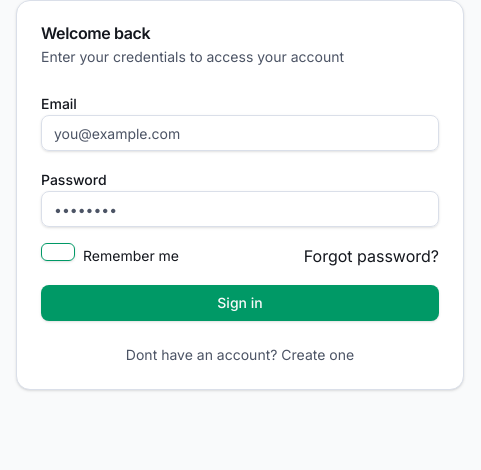
LoginForm › error handling › displays error message on failed login
The image size is (481, 470).
Type "test@example.com" into the field with placeholder "you@example.com" at point(240, 133), box [41, 115, 439, 151]
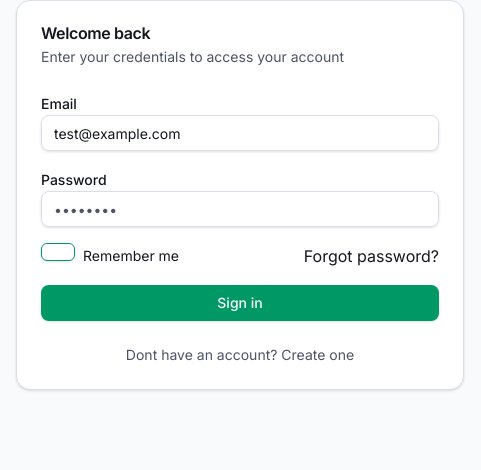
Type "wrongpassword" into the password field with placeholder "••••••••" at point(240, 209), box [41, 191, 439, 227]
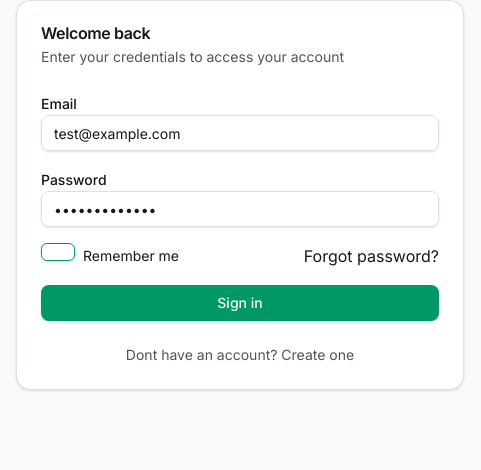
Click the button "Sign in" at point(240, 303), box [41, 285, 439, 321]
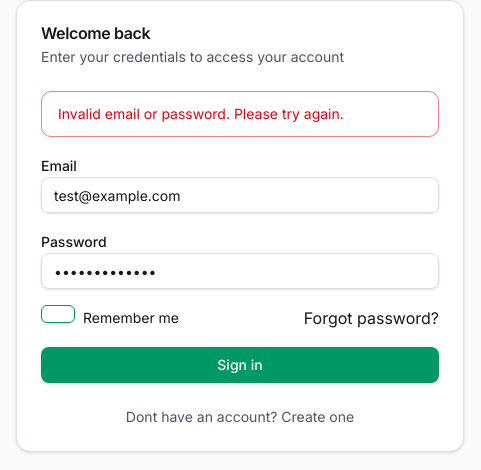
Result: the text "Invalid email or password. Please try again." is shown at [58, 105, 344, 122]
